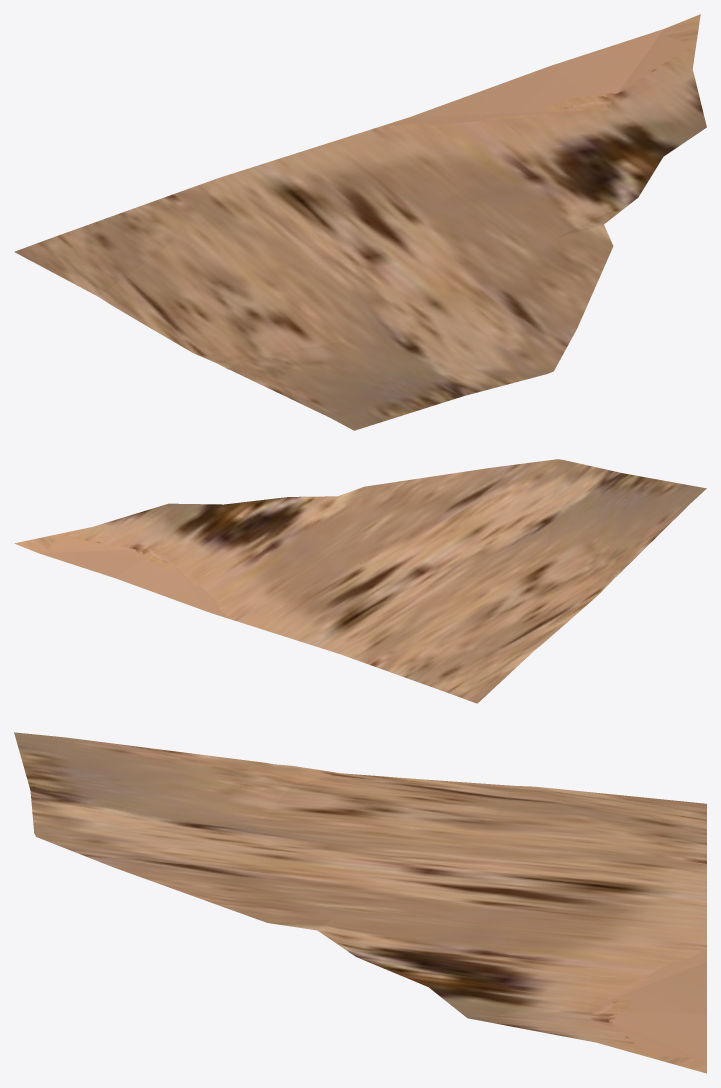
3 renders of one model, top to bottom at view 1: azimuth 30°, elevation 25°; view 2: azimuth 150°, elevation 25°; view 3: azimuth 270°, elevation 25°, orthographic. The views are drawn at different scales.
Bounding box in the file's own units: 1.77 × 0.1726 × 1.52.
1 material, 1 textured.
